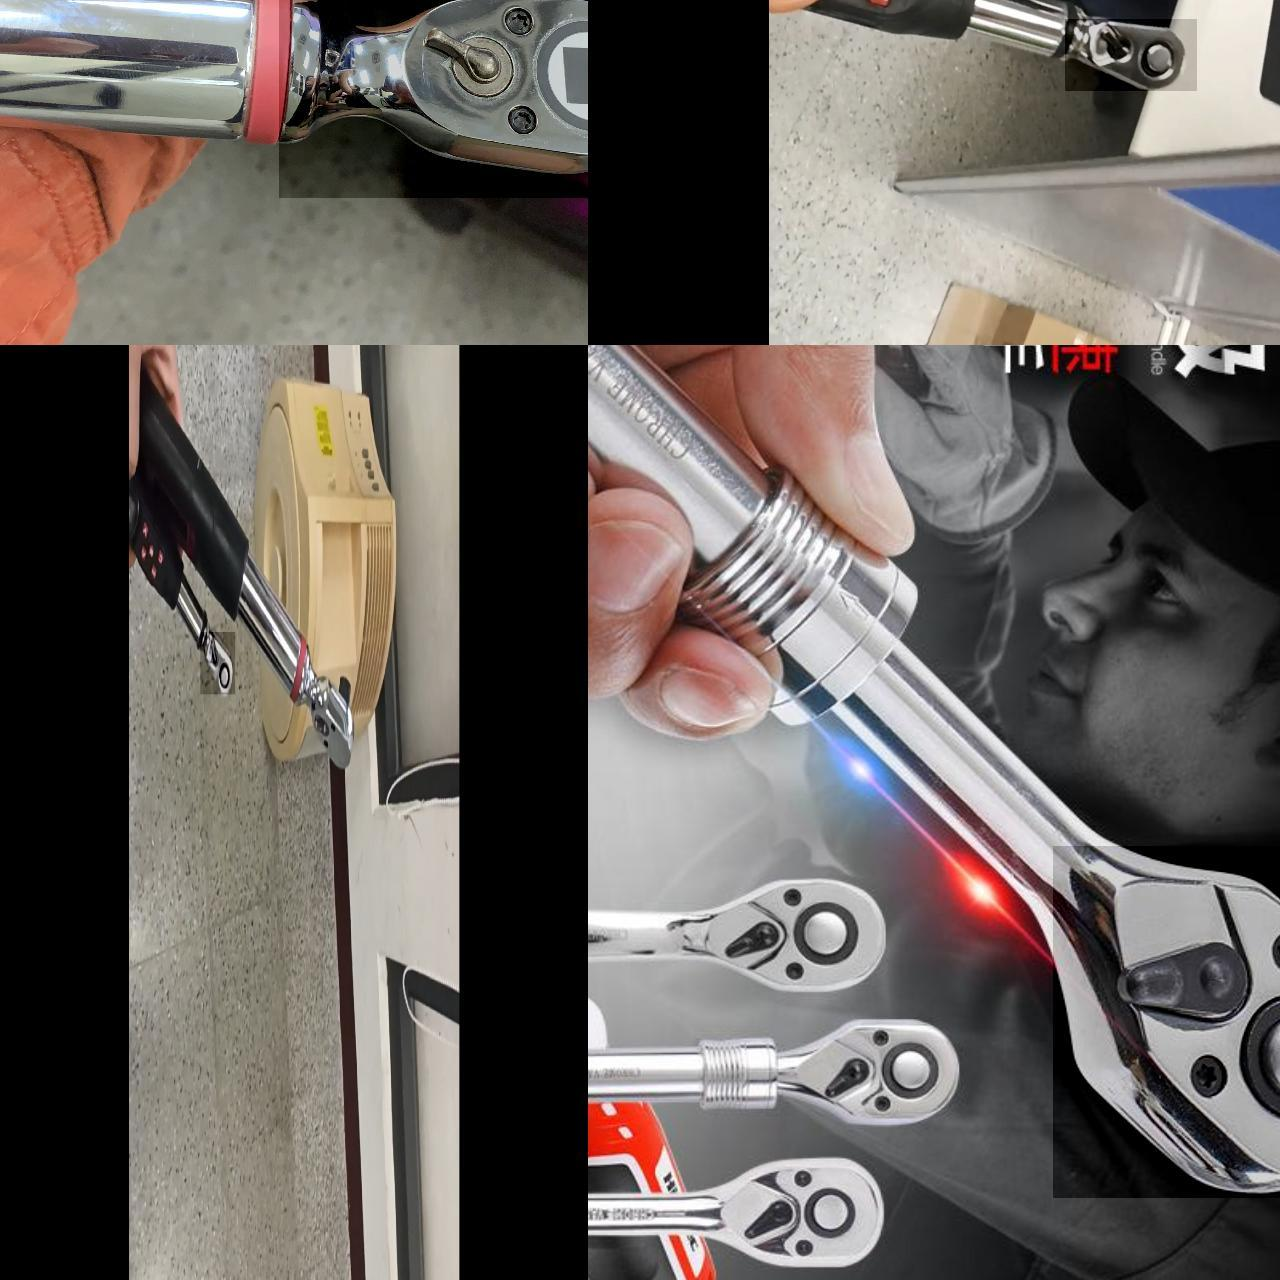Tool: (1053, 845, 1280, 1197), (279, 0, 588, 197), (670, 874, 886, 993), (776, 1015, 960, 1123), (708, 1158, 880, 1266), (1065, 18, 1197, 90), (299, 672, 356, 776), (200, 631, 234, 694)
